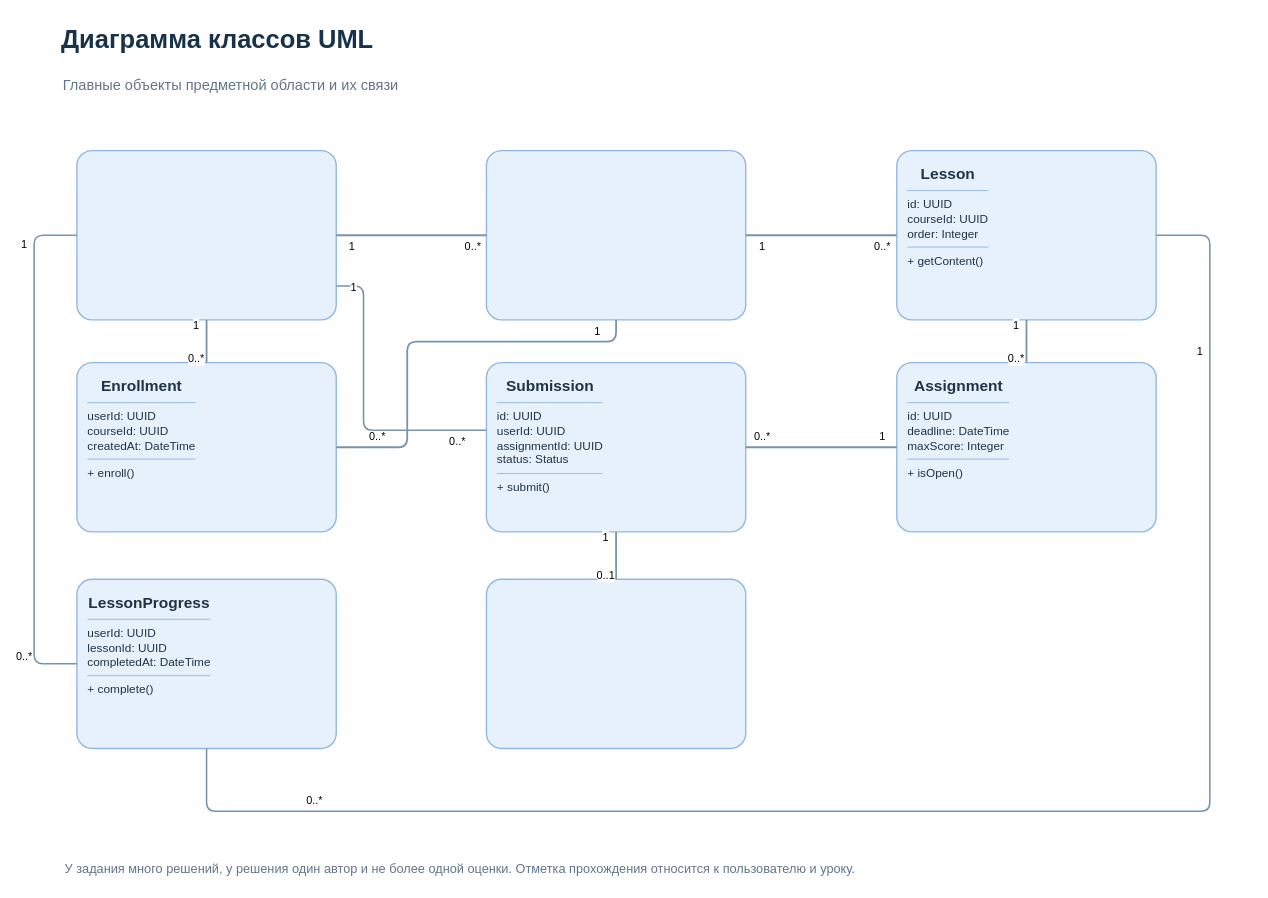
Image size: 1268x898. Some labels were removed from this diagram. Here are the shapes that lost their labels. From the top down, the box of each, then its label:
(76, 150, 337, 320): User id: UUID email: String role: Role + register() + signIn()
(485, 150, 746, 320): Course id: UUID title: String ownerId: UUID published: Boolean + publish()
(485, 578, 746, 749): Grade submissionId: UUID score: Integer comment: String + assignScore()
